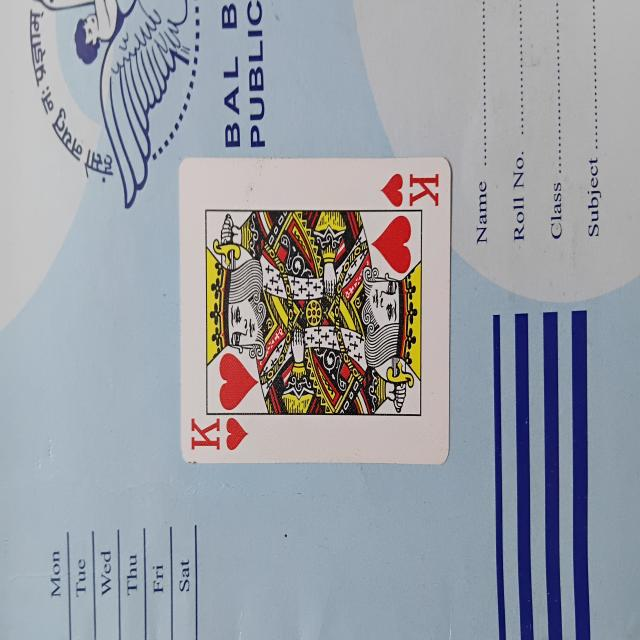KH: (179, 155, 453, 466)
